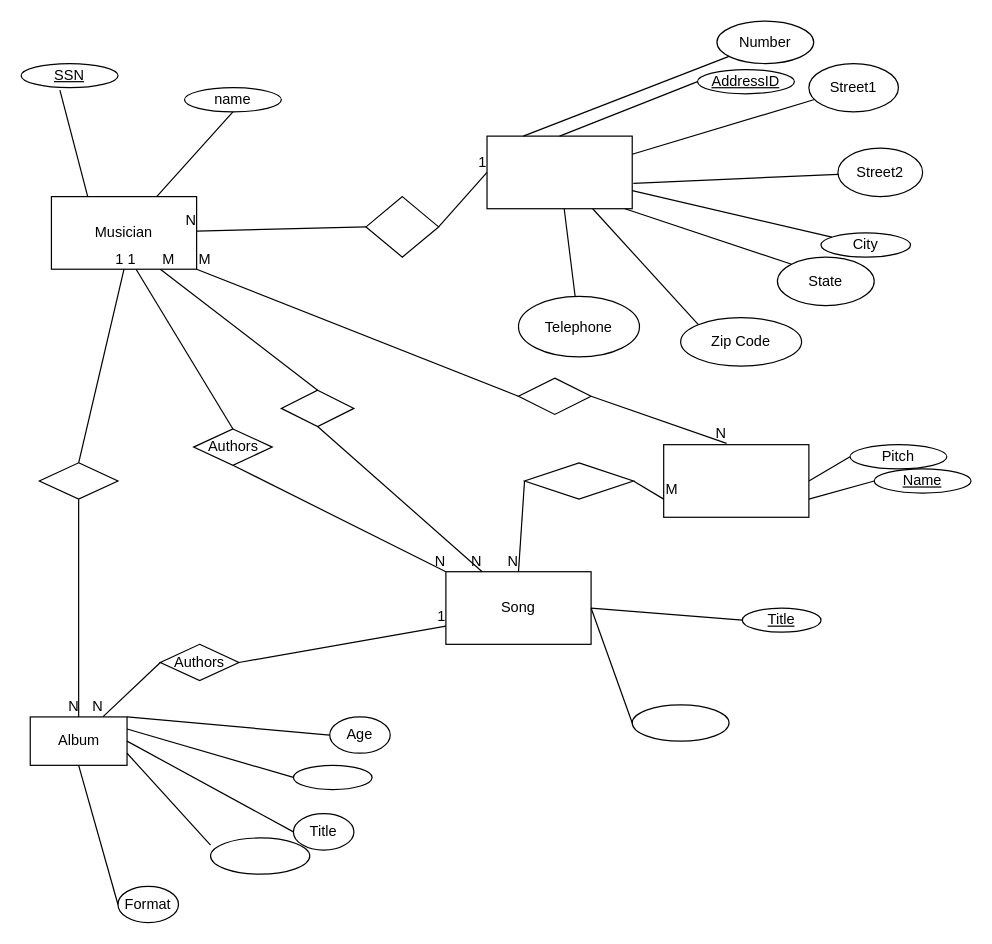
The diagram is 992 pixels wide and 944 high, and some of its shapes have lost their labels. The shapes that lost their labels are listed below. From the top down, each one's centre as x and y in pixels, then its label:
[559,172]: Address
[402,226]: lives
[317,408]: performs
[554,395]: plays
[78,480]: Produce
[578,480]: uses
[735,480]: Instrument
[680,722]: Lenght
[332,777]: AlbumID
[259,855]: Release_Date
